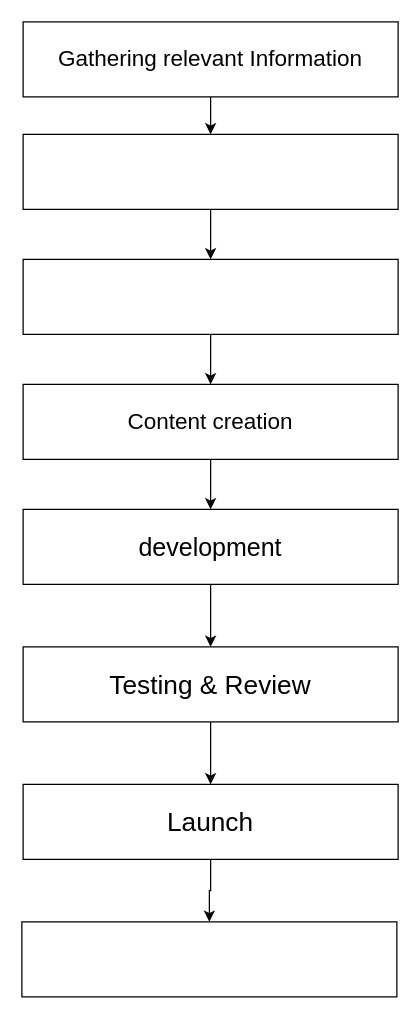
This 420x1019 diagram has some shape labels left out. Each missing label, with the box of its shape:
Design & Layout: (22, 258, 398, 334)
Maintenance & update: (21, 921, 397, 997)
Planing: (22, 133, 398, 209)
